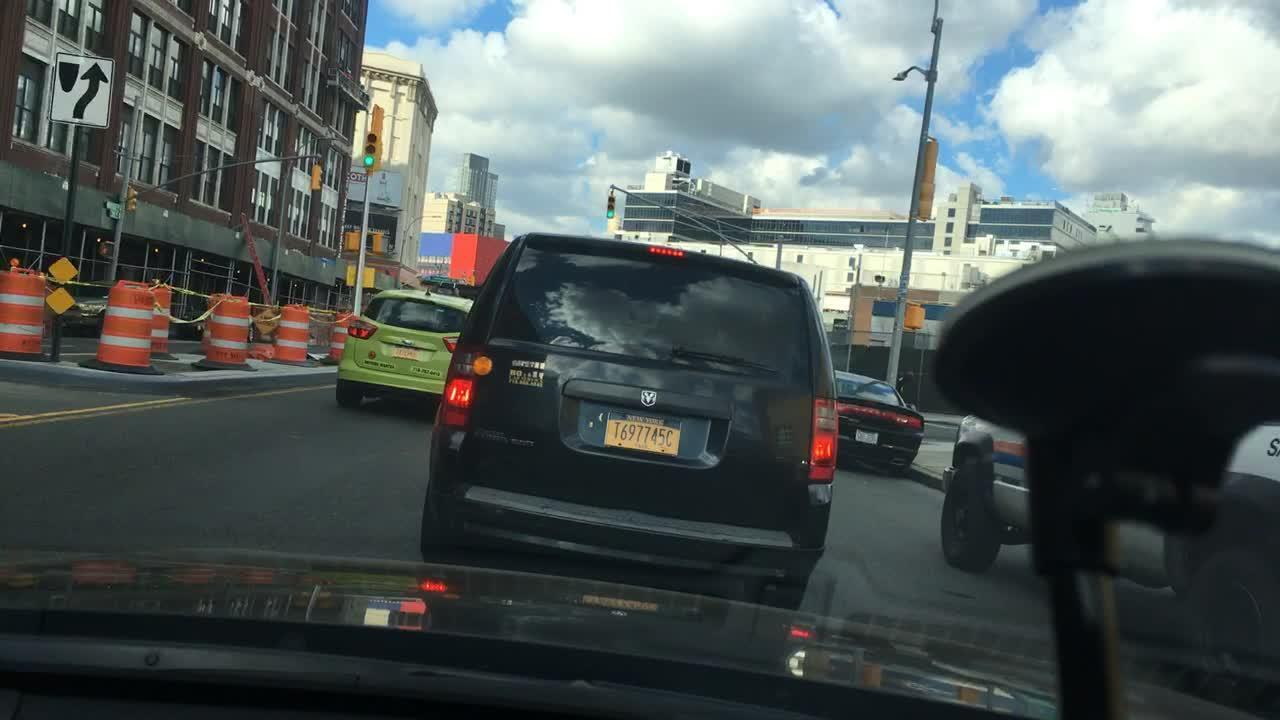ram: (639, 388, 665, 415)
